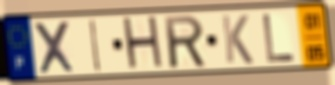H: (120, 14, 167, 74)
I: (88, 17, 103, 74)
K: (219, 13, 255, 66)
L: (260, 12, 297, 64)
R: (162, 13, 209, 71)
X: (31, 19, 78, 76)
